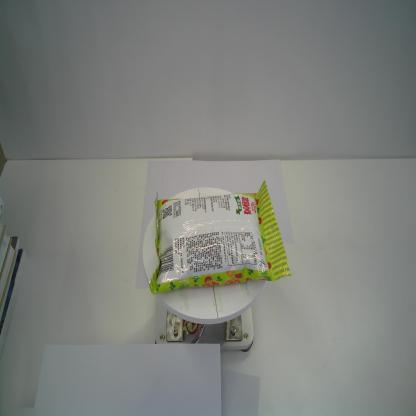Puffed Food: (148, 180, 290, 297)
